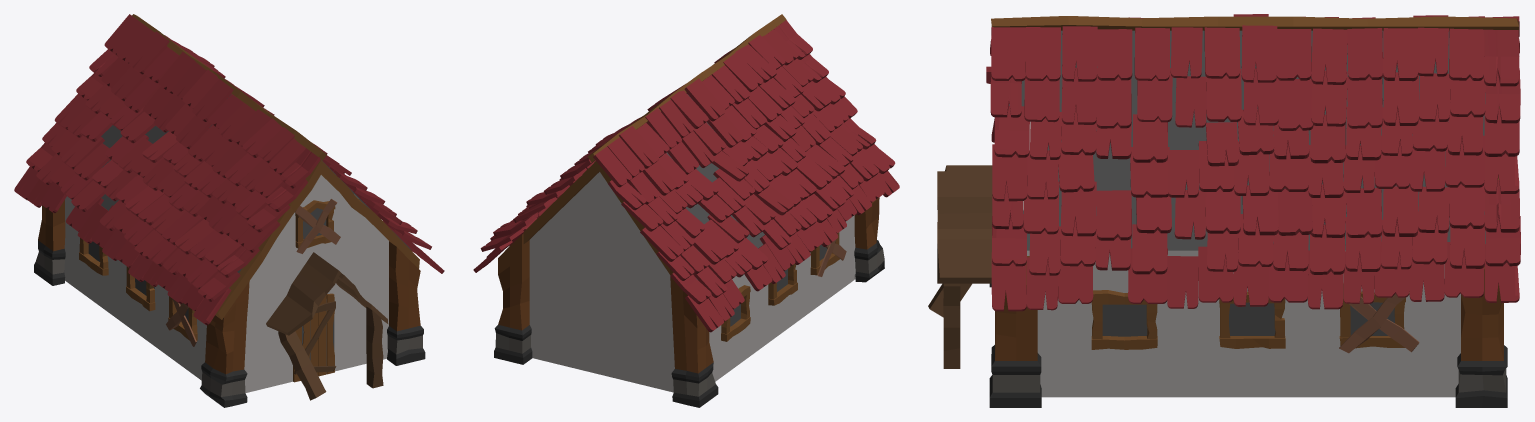
The model's file is Haus_2.fbx.
The picture shows the model from 3 angles, left to right: view 1: azimuth 30°, elevation 25°; view 2: azimuth 150°, elevation 25°; view 3: azimuth 270°, elevation 25°; orthographic projection. The views are drawn at different scales.
Parts seen in each view (by area): view 1: Wand1, Eckpfeiler, Wand3, Balken_vorne_L.003, Balken_vorne_L, Balken_vorne_R, Balken_vorne_L.004, Balken_vorne_L.001, Balken_oben, Dachschindel2.051, Dachschindel2.053, Dachschindel2.047 (+86 smaller); view 2: Wand2, Eckpfeiler, Wand3, Balken_oben, Balken_vorne_R.001, Dachschindel2.051, Dachschindel2.053, Dachschindel1.095, Dachschindel1.042, Dachschindel2.031, Dachschindel1.044, Dachschindel1.045 (+84 smaller); view 3: Wand4, Eckpfeiler, Balken_vorne_R.002, Balken_oben, Plane, Dachschindel2.104, Dachschindel2.100, Dachschindel2.103, Dachschindel2.106, Dachschindel1.093, Dachschindel1.096, Dachschindel1.091 (+100 smaller).
Part boxes in pixels (x1,y1,x2,y2): Wand1: (244,175,388,393); Eckpfeiler: (34,200,425,407); Wand3: (64,196,206,380); Balken_vorne_L.003: (266,252,340,335); Balken_vorne_L: (215,160,326,319); Balken_vorne_R: (321,166,419,268); Balken_vorne_L.004: (278,331,326,400); Balken_vorne_L.001: (366,306,383,388); Balken_oben: (132,14,326,160); Dachschindel2.051: (192,79,233,121); Dachschindel2.053: (129,31,169,74); Dachschindel2.047: (280,148,320,188); Wand2: (529,172,674,392); Eckpfeiler: (494,197,884,407); Wand3: (709,215,854,381); Balken_oben: (587,14,786,162); Balken_vorne_R.001: (523,163,599,243); Dachschindel2.051: (684,78,725,121); Dachschindel2.053: (619,125,659,168); Dachschindel1.095: (593,146,632,187); Dachschindel1.042: (723,52,763,92); Dachschindel2.031: (640,226,683,261); Dachschindel1.044: (670,90,708,128); Dachschindel1.045: (645,108,681,149); Wand4: (1037,250,1460,397); Eckpfeiler: (989,256,1507,407); Balken_vorne_R.002: (937,171,992,283); Balken_oben: (991,16,1518,30); Plane: (1009,30,1485,250); Dachschindel2.104: (1241,25,1277,82); Dachschindel2.100: (1483,29,1519,86); Dachschindel2.103: (1311,28,1347,84); Dachschindel2.106: (1062,26,1097,81); Dachschindel1.093: (1025,27,1060,81); Dachschindel1.096: (991,27,1025,81); Dachschindel1.091: (1134,27,1169,80).
Bounding box in the file's own units: 298 × 277 × 453.
